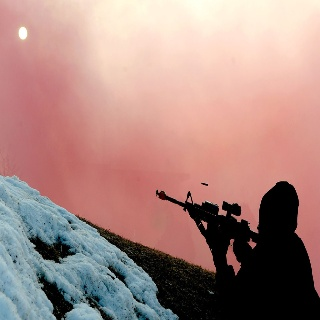rifle: (154, 188, 259, 263)
